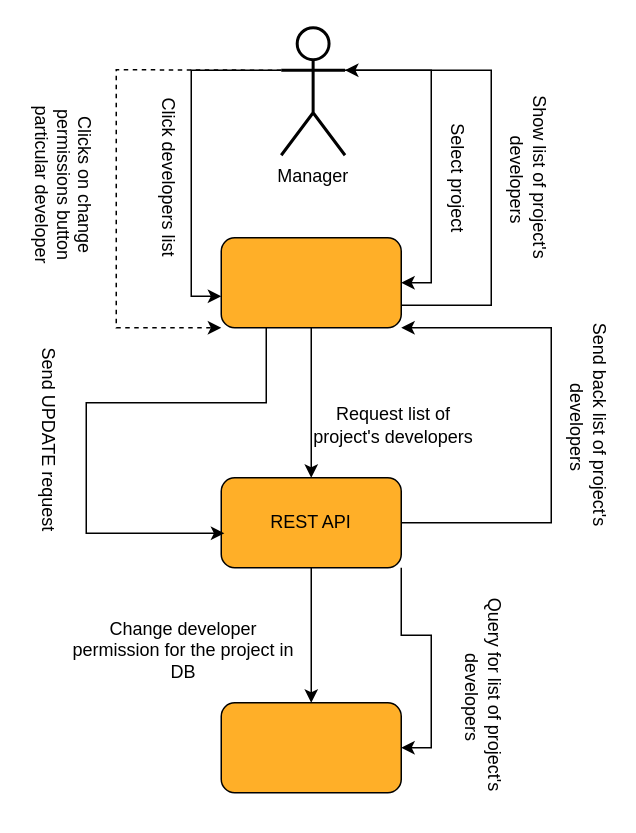
This 636x833 diagram has some shape labels left out. The centre of each missing label's shape, as x and y in pixels:
Database: the point at 310,747
Frontend: the point at 310,282
